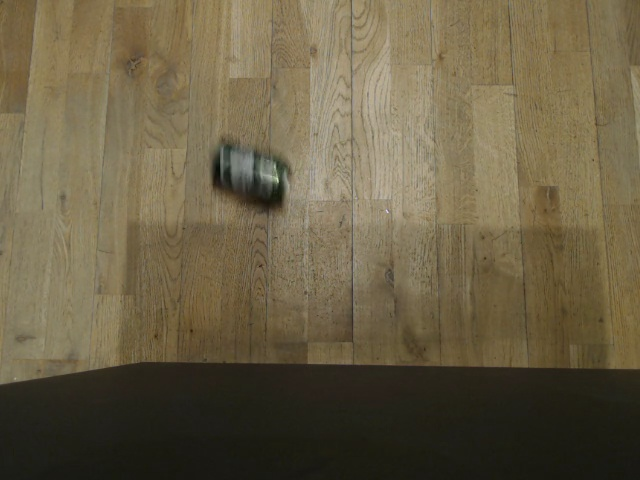beer: (207, 138, 297, 214)
